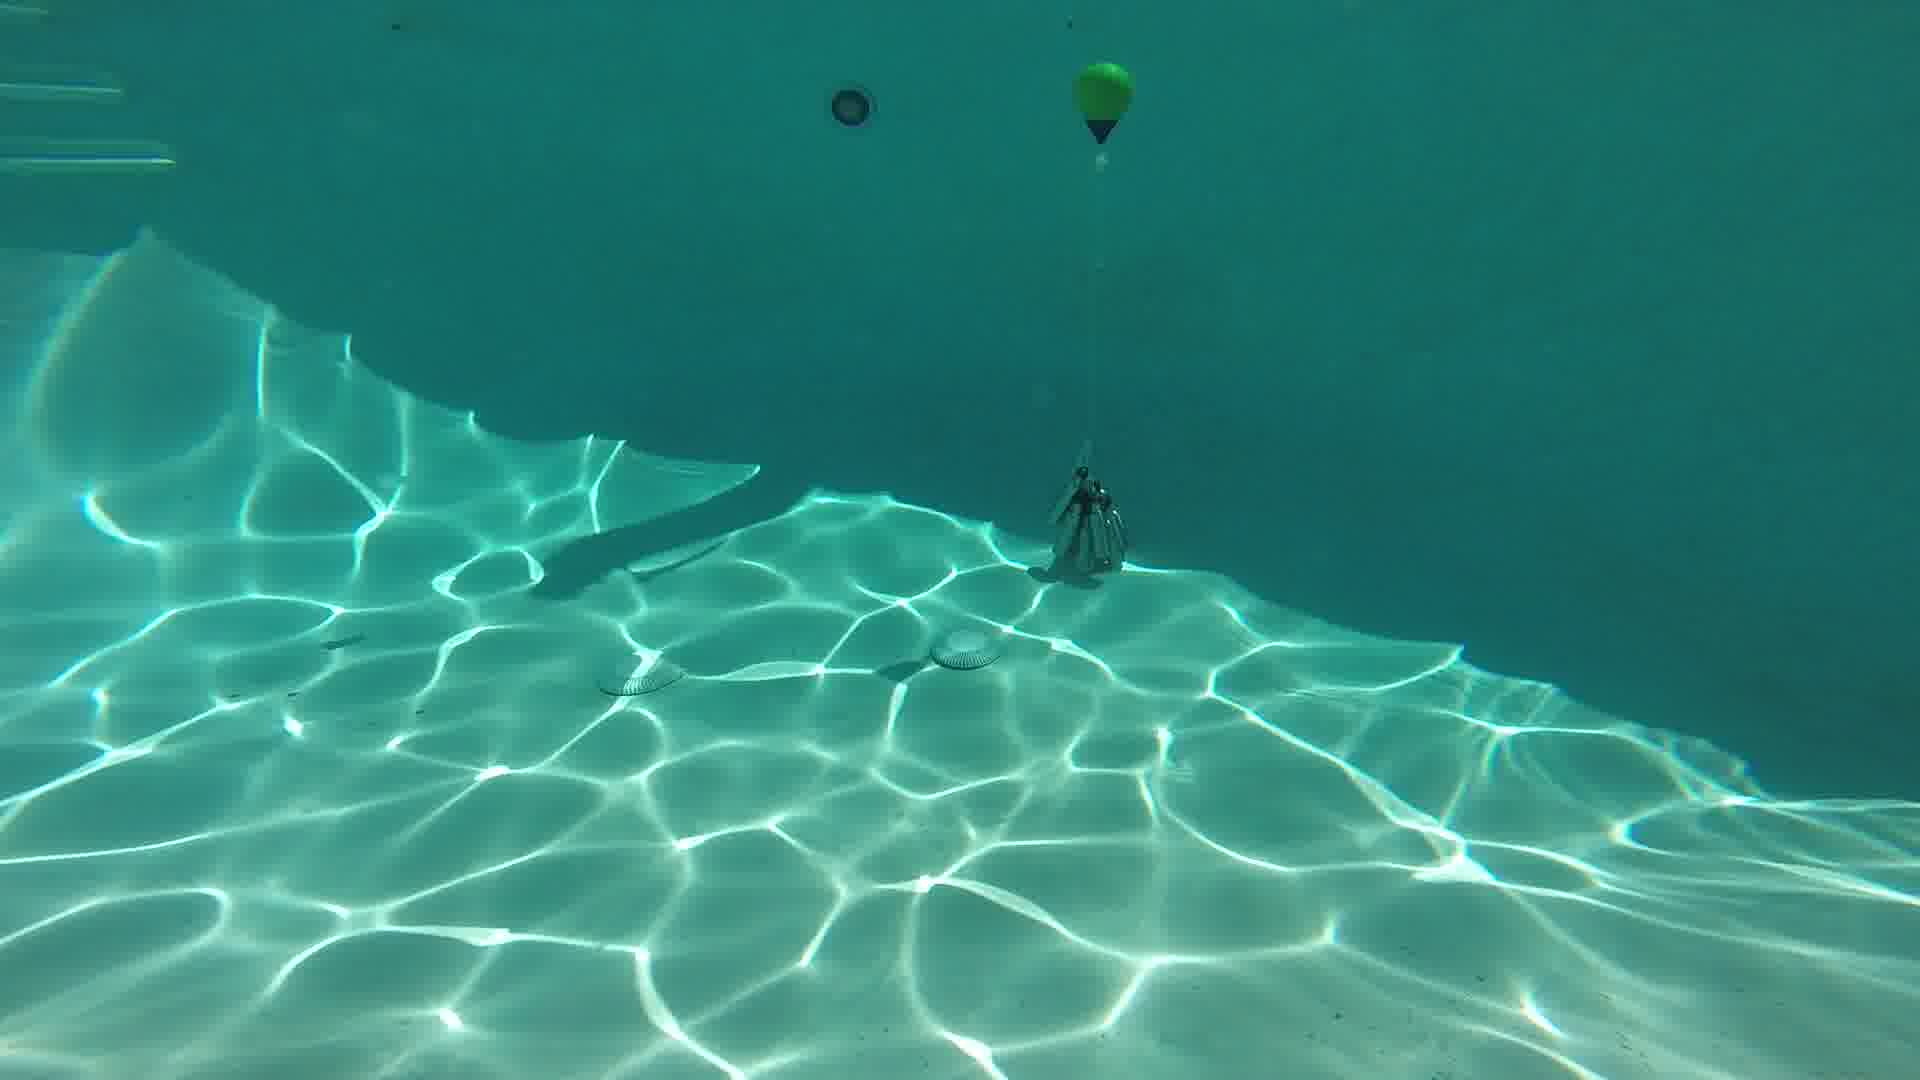yellow_buoy: (1072, 62, 1129, 142)
